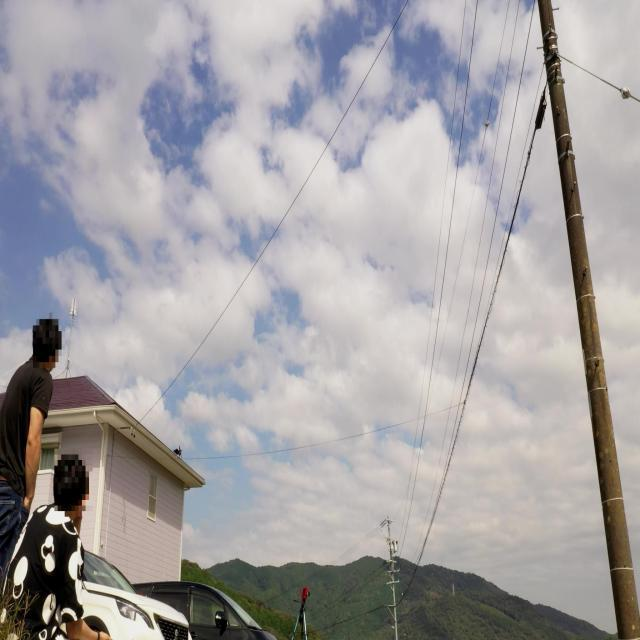Birds: (172, 440, 187, 460)
